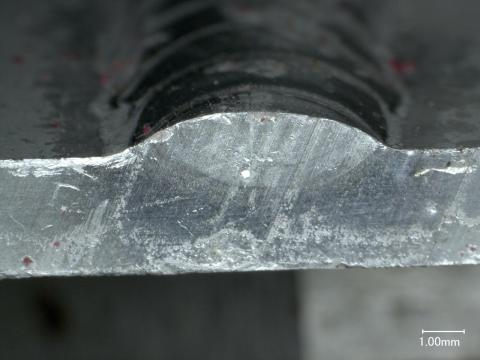test: (110, 112, 396, 156)
